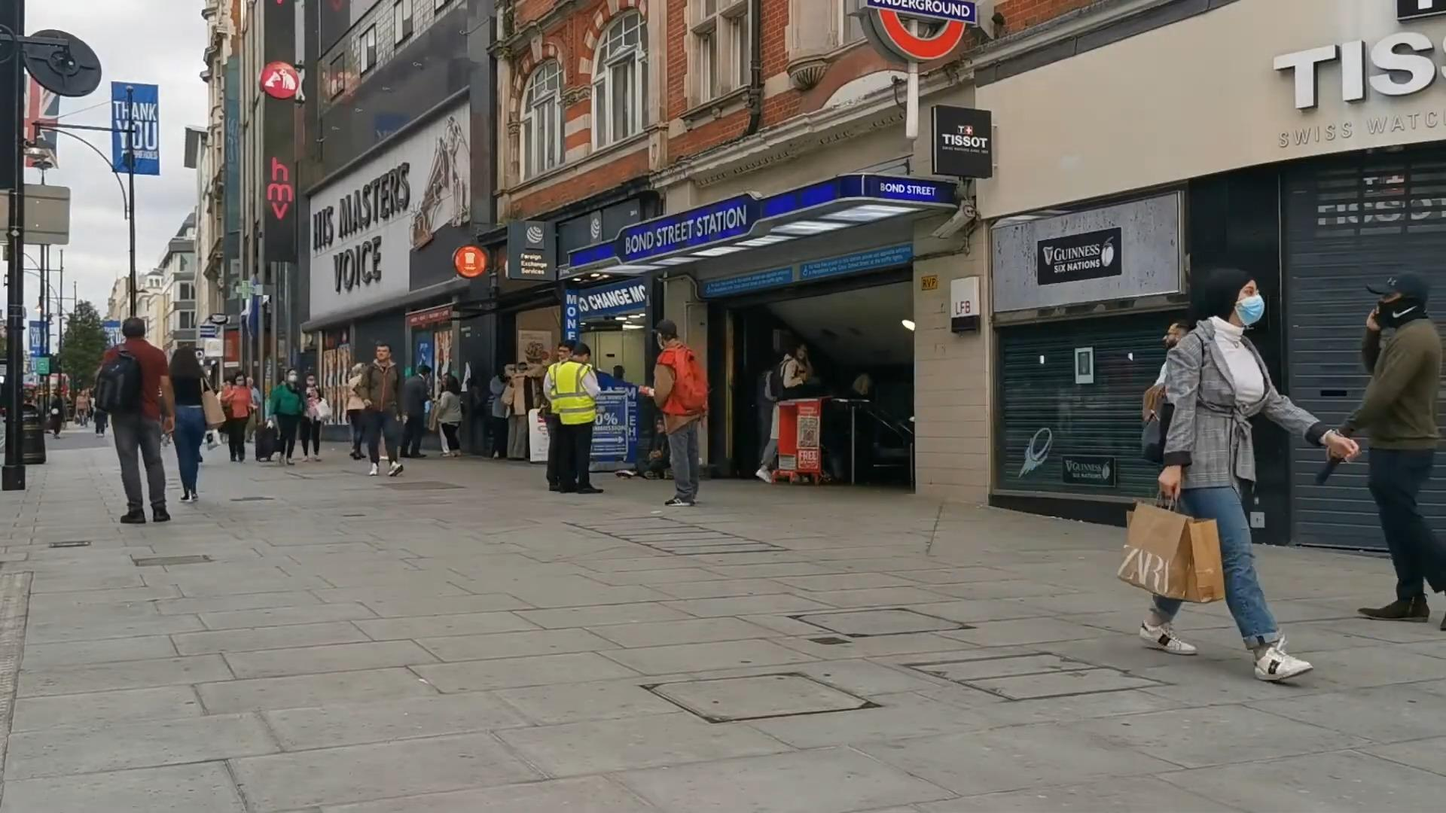no-helmet: (1204, 267, 1265, 326), (1366, 274, 1429, 328), (169, 346, 203, 378), (650, 319, 680, 350), (1163, 320, 1190, 351), (122, 317, 145, 338), (572, 343, 591, 364), (558, 340, 576, 362), (375, 342, 392, 362), (231, 371, 247, 389), (445, 376, 460, 395), (286, 368, 298, 384), (305, 373, 315, 386)
